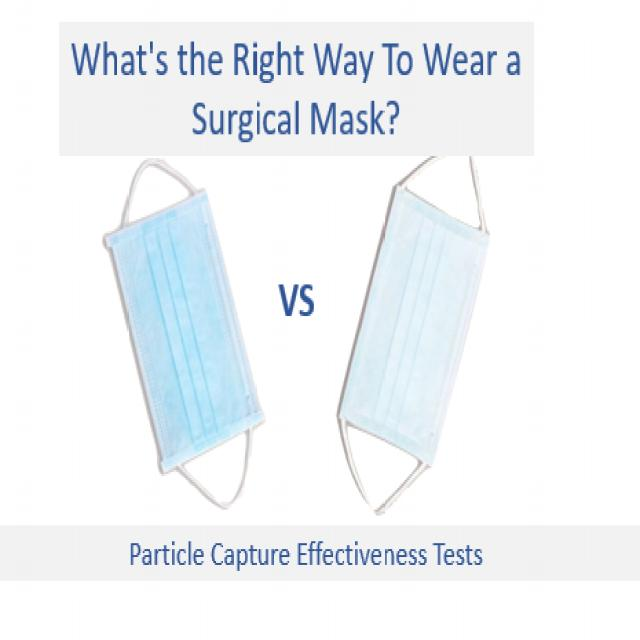non-organic waste: (110, 164, 267, 510), (337, 164, 490, 508)
